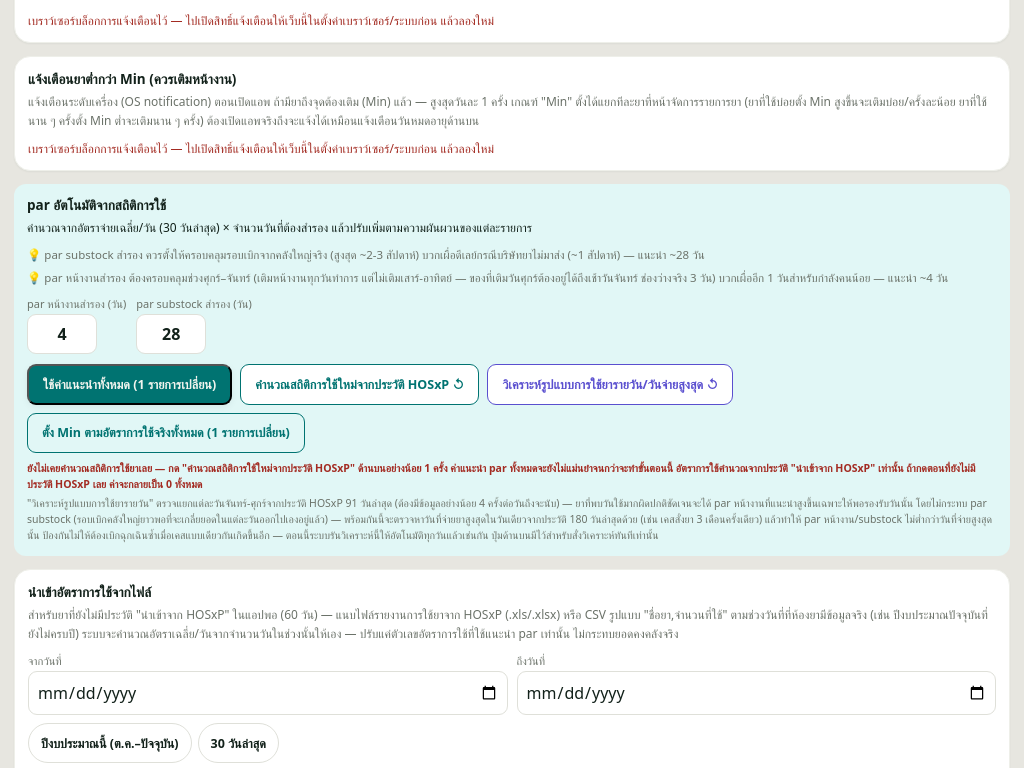
Test case: SettingsScreen — weekday-usage-pattern insight regression › runs analyzeWeekdayUsage when the button is tapped
(page scrolled)
What coordinates should you click on to do the following:
click the button "วิเคราะห์รูปแบบการใช้ยารายวัน/วันจ่ายสูงสุด ↺"
I would click on:
 (610, 384)
Its box is [487,364,733,405].
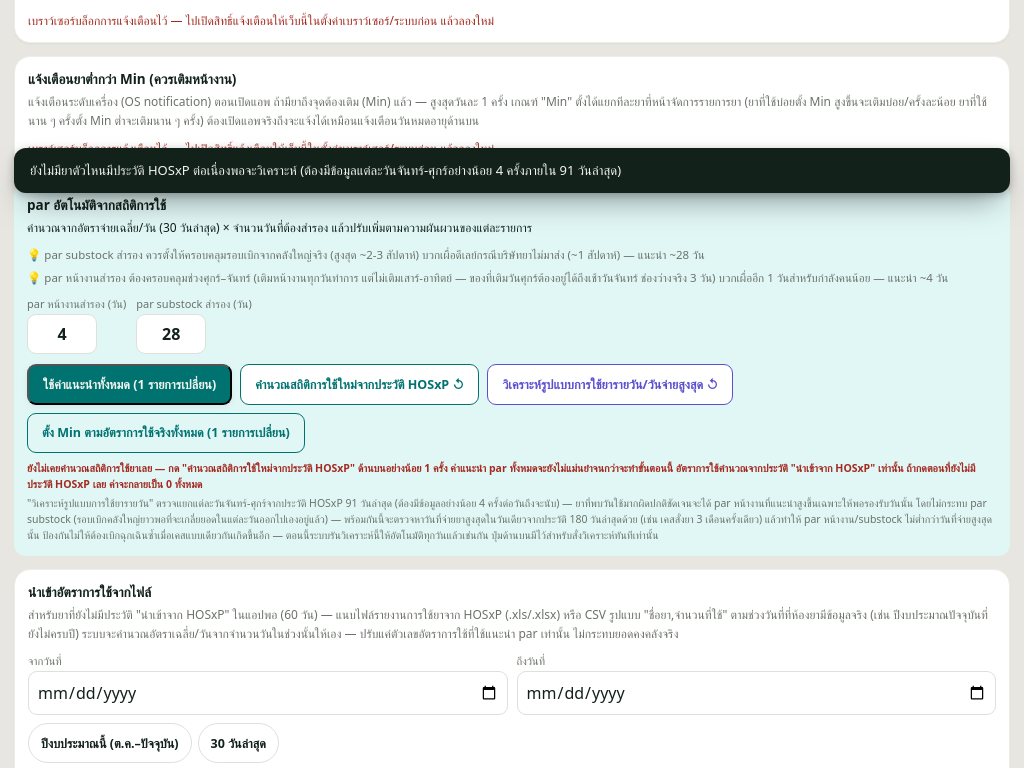
Expected: the text "ยังไม่มียาตัวไหนมีประวัติ HOSxP ต่อเนื่องพอจะวิเคราะห์" is shown, [30,161,621,179]
